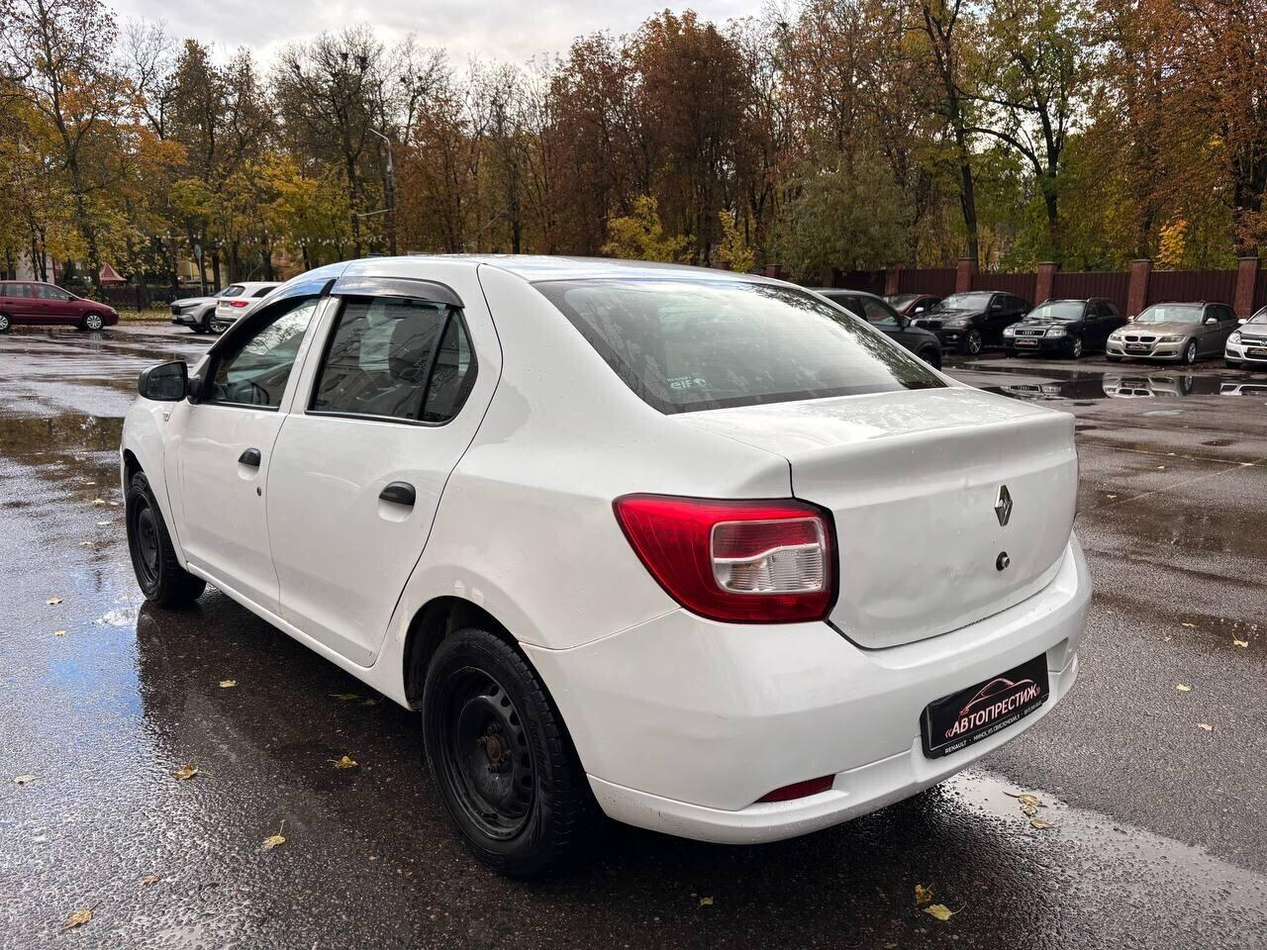Logan_2018: (119, 242, 1105, 868)
